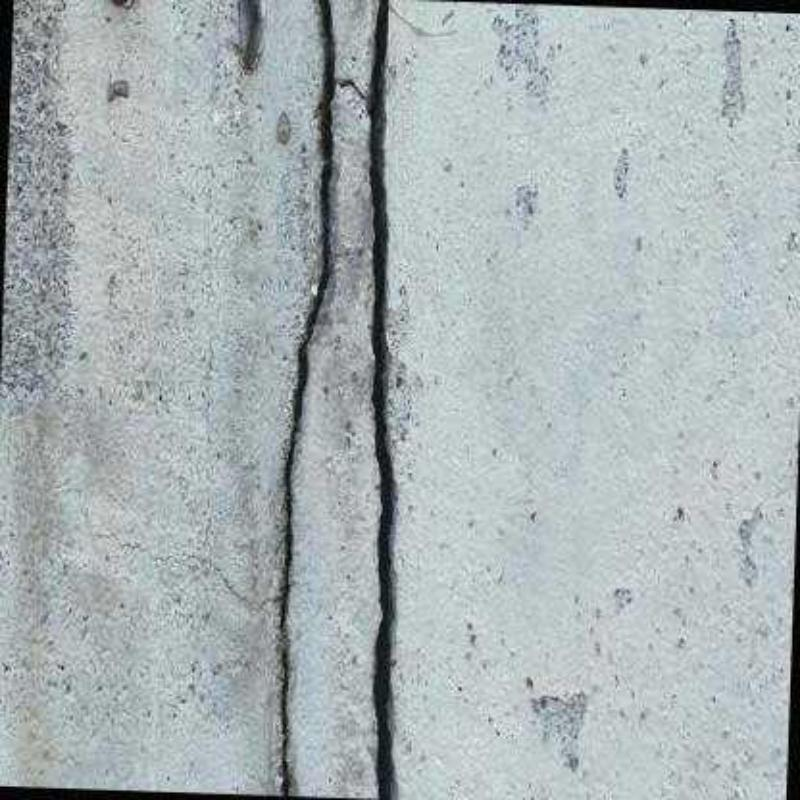pothole: (93, 0, 366, 796), (366, 0, 396, 800)
